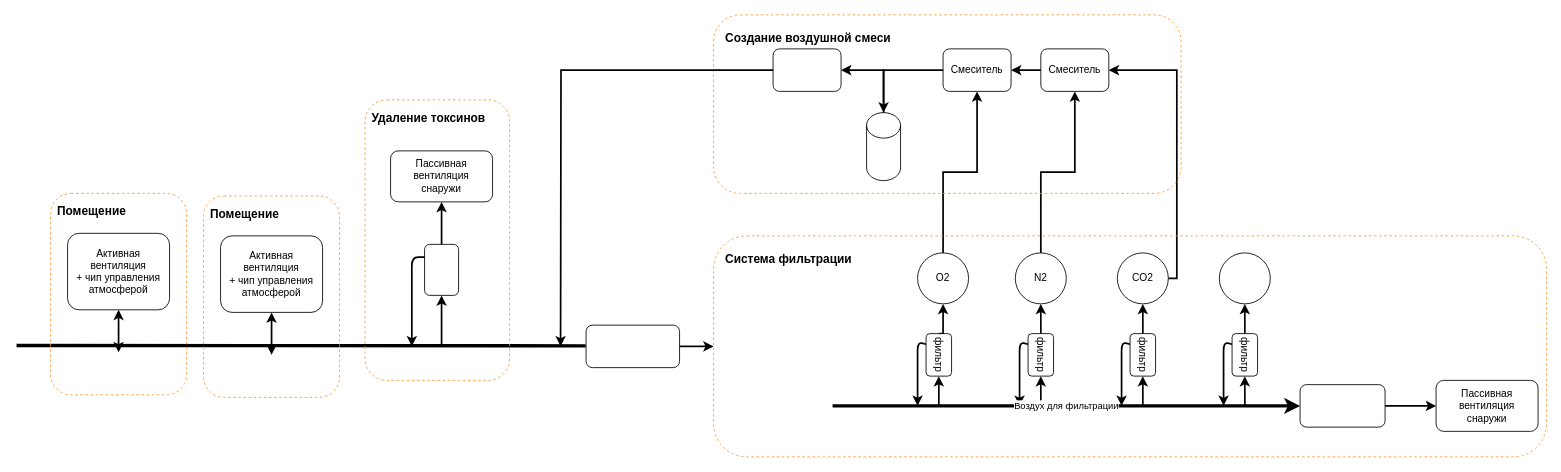
This 1561x472 diagram has some shape labels left out. The centre of each missing label's shape, as x and y in pixels:
H2: point (1244, 278)
Регулятор давления 1 мПа: point (806, 69)
Регулятор обр. давления 5 мПа: point (632, 346)
Регулятор обр.давления 2 мПа: point (1342, 405)
Смесь: point (883, 146)
фильтр токсинов: point (441, 269)
